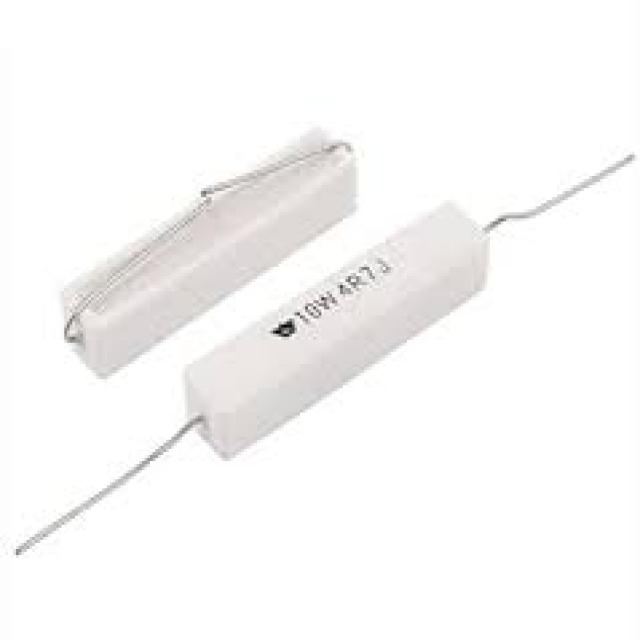Resistor: (59, 128, 358, 376), (185, 203, 480, 454)
